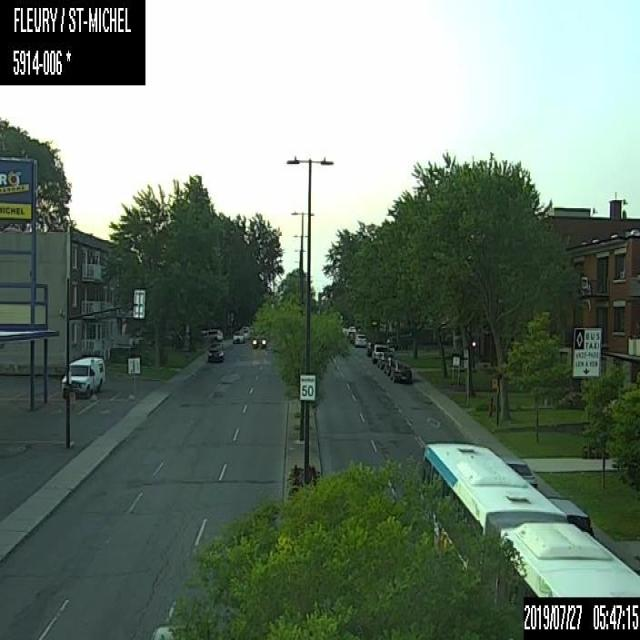bus: (418, 439, 639, 618)
vehicle: (61, 356, 105, 397), (386, 332, 413, 350), (390, 360, 411, 383), (206, 342, 225, 362), (371, 343, 387, 363), (200, 328, 222, 342), (376, 352, 392, 368), (384, 356, 398, 374), (341, 325, 355, 342), (353, 332, 366, 347), (251, 335, 266, 348), (231, 330, 245, 343), (240, 325, 251, 338)
